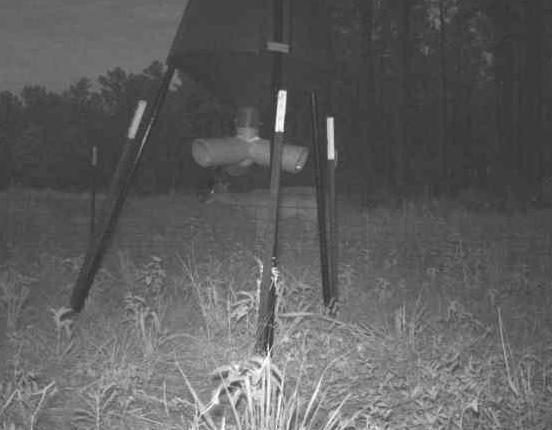Deer: (198, 177, 323, 250)
